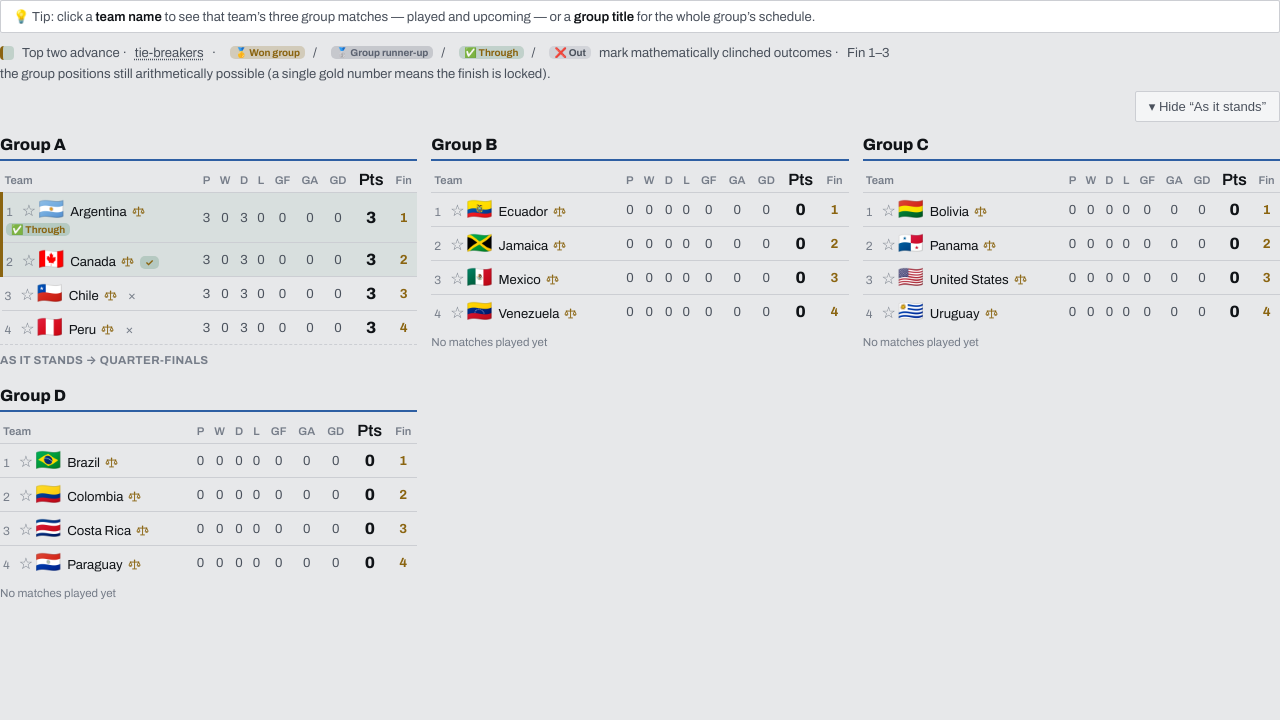
Standings — what "as it stands" shows when the bracket cannot answer › offers a through team no matchup at all when neither source can name one
Click the button with class "row-team-btn" showing "Argentina". click: click(98, 212)
box: [70,204,127,220]
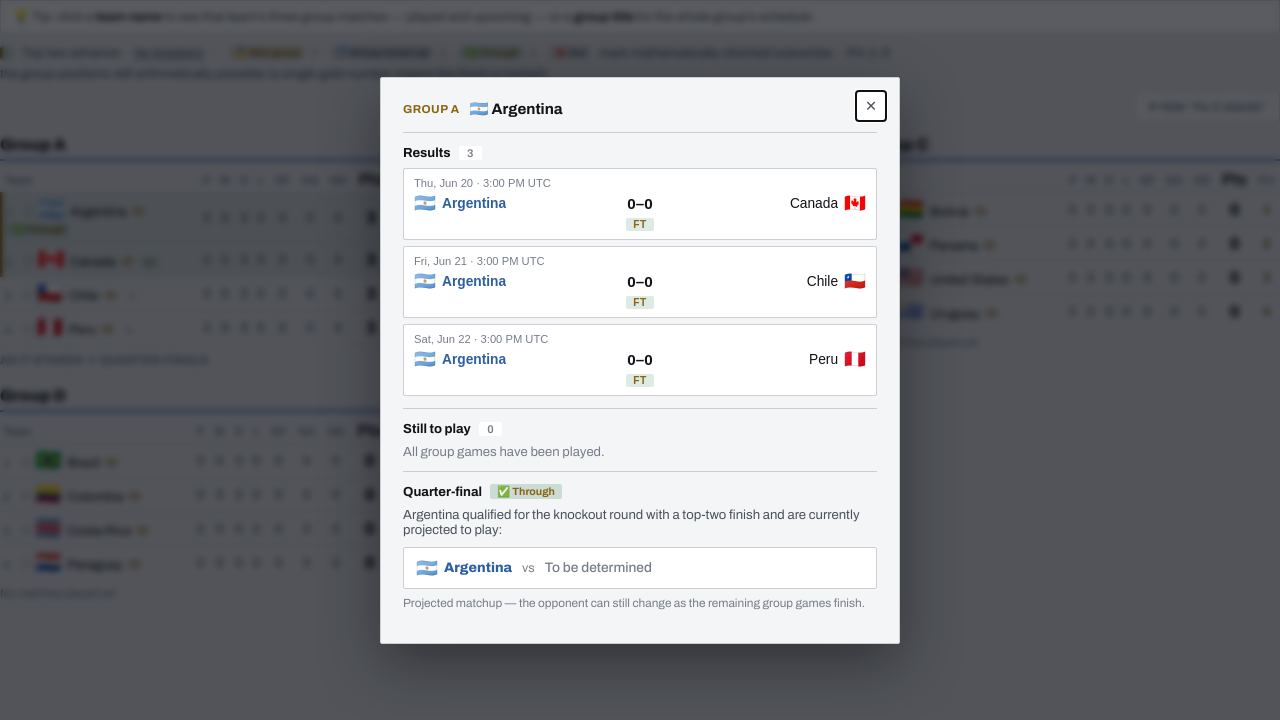
Expected: the element with class "gg-knockout" is shown, [403,470,877,608]
Expected: the text with class "gg-ko-tbd" reads "To be determined", [545,560,652,575]
